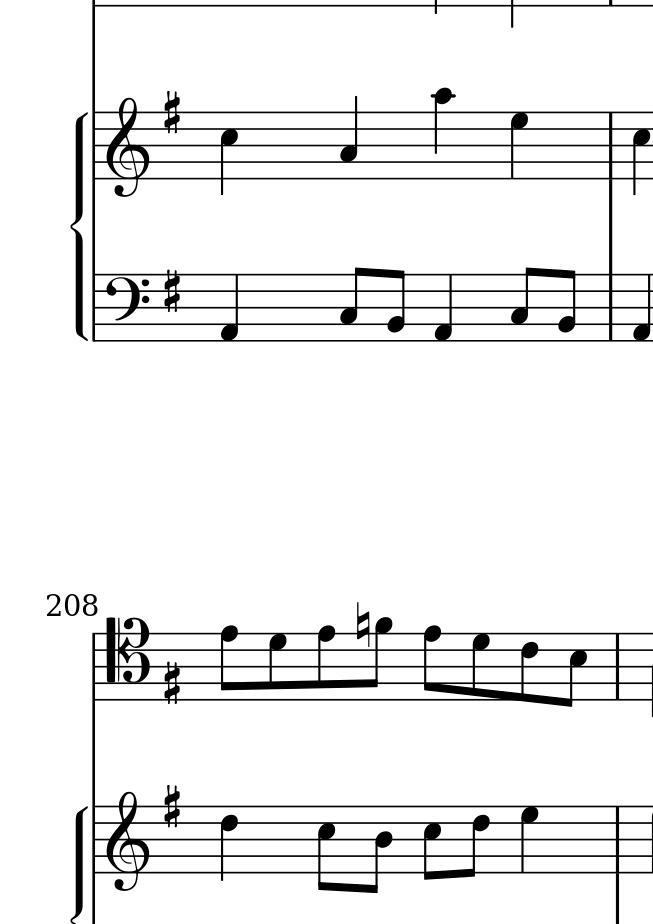0: (64, 592, 80, 618)
2: (43, 593, 64, 619)
4_1: (428, 273, 454, 341), (218, 273, 242, 343), (630, 274, 651, 340)
4_10: (432, 87, 458, 181)
4_3: (339, 89, 360, 182)
4_5: (631, 109, 653, 199), (219, 109, 239, 197)
4_6: (219, 802, 244, 880)
4_7: (508, 109, 534, 183), (520, 806, 541, 874)
8: (82, 592, 99, 618)
8_2: (386, 268, 407, 345), (559, 269, 580, 343)
8_3: (510, 266, 537, 342), (340, 266, 365, 343)
8_4: (366, 803, 395, 896)
8_5: (561, 631, 588, 711), (316, 804, 336, 895), (422, 803, 442, 884)
8_6: (466, 802, 490, 878), (519, 631, 542, 704)
8_7: (469, 633, 493, 704), (268, 633, 288, 703)
8_8: (314, 626, 337, 702), (219, 624, 241, 703), (422, 625, 443, 705)
8_9: (363, 616, 394, 704)
Brace: (68, 111, 90, 345)
Fclef: (104, 272, 149, 343)
Gclef: (105, 788, 153, 893), (104, 97, 151, 200)
Natural: (355, 600, 372, 650)
Sharp: (160, 269, 184, 316), (163, 659, 183, 708), (162, 91, 183, 135), (164, 784, 182, 829)
Single_barline: (606, 805, 632, 874), (606, 633, 628, 701), (599, 111, 620, 180), (84, 633, 105, 700), (86, 805, 104, 875), (603, 275, 620, 343), (88, 273, 104, 341), (88, 112, 104, 179)
Tensor_Cclef: (104, 614, 151, 704)
